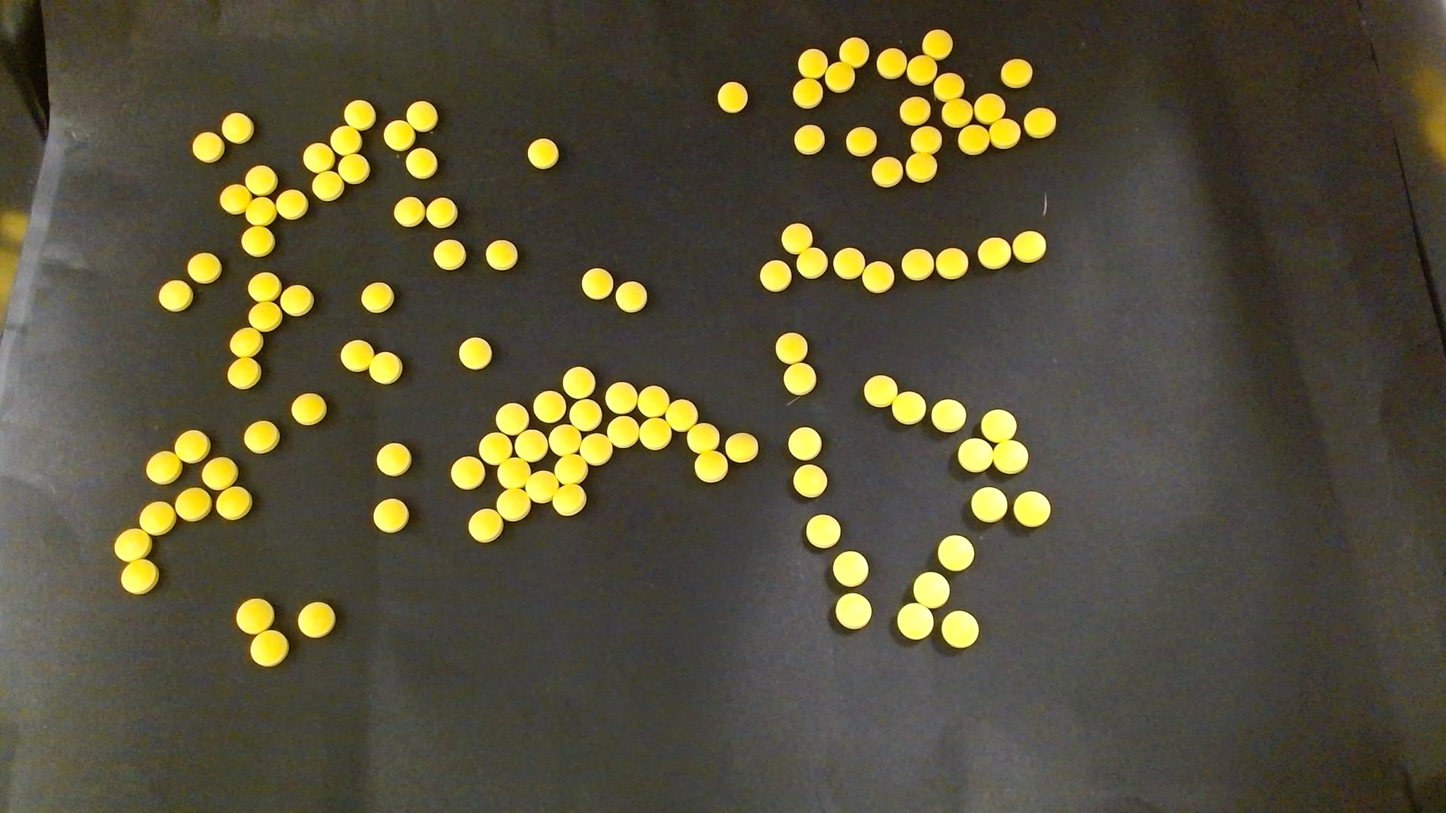Circle: (1011, 489, 1052, 531), (297, 601, 335, 638), (941, 611, 979, 648), (834, 593, 872, 630), (250, 630, 288, 667), (937, 534, 974, 571), (896, 603, 933, 640), (913, 571, 950, 608), (969, 485, 1007, 521), (120, 559, 158, 595), (236, 598, 273, 634), (832, 550, 868, 586), (805, 513, 841, 549), (992, 439, 1028, 474), (957, 438, 993, 473), (139, 501, 175, 536), (373, 499, 409, 533), (115, 528, 151, 562), (980, 407, 1016, 441), (145, 451, 181, 485), (175, 487, 211, 521), (793, 464, 828, 498), (157, 279, 193, 312), (216, 486, 252, 519), (243, 419, 279, 452), (932, 399, 966, 433), (892, 391, 926, 425), (175, 429, 209, 463), (450, 455, 484, 489), (201, 457, 236, 490), (468, 510, 502, 543), (376, 442, 410, 475), (227, 356, 261, 389), (496, 488, 530, 521), (825, 61, 858, 95), (291, 393, 326, 425), (694, 450, 727, 483), (459, 337, 492, 370), (783, 362, 816, 395), (863, 375, 897, 407), (1012, 230, 1045, 262), (187, 251, 220, 283), (789, 426, 822, 458), (241, 225, 274, 257), (901, 248, 934, 280), (527, 138, 560, 170), (978, 237, 1010, 269), (759, 260, 791, 292), (1023, 106, 1055, 138), (935, 247, 967, 279), (922, 29, 954, 61), (639, 417, 671, 449), (496, 402, 528, 434), (497, 456, 529, 488), (906, 55, 938, 87), (533, 391, 565, 423), (340, 339, 373, 370), (405, 148, 438, 179), (554, 453, 587, 484), (910, 126, 943, 157), (279, 285, 313, 315), (615, 281, 647, 312), (370, 352, 401, 384), (581, 267, 612, 299), (433, 239, 465, 270), (776, 332, 808, 363), (781, 223, 813, 254), (221, 112, 253, 143), (553, 483, 585, 514), (338, 153, 370, 184), (479, 433, 511, 464), (515, 430, 547, 461), (570, 399, 601, 431), (360, 282, 393, 312), (725, 433, 758, 463), (230, 327, 263, 357), (249, 300, 282, 330), (485, 239, 516, 270), (862, 261, 893, 292), (793, 123, 824, 154), (796, 247, 827, 278), (716, 81, 747, 112), (834, 247, 865, 278), (563, 366, 594, 397), (219, 184, 250, 215), (605, 382, 636, 413), (935, 72, 966, 103), (526, 472, 557, 503), (637, 385, 668, 416), (192, 132, 224, 162), (905, 152, 937, 182), (846, 126, 878, 156), (580, 434, 612, 464), (248, 271, 281, 300), (877, 47, 906, 80), (393, 196, 424, 226), (406, 100, 437, 130), (383, 120, 414, 150), (312, 170, 343, 200), (343, 99, 374, 129), (303, 142, 334, 172), (797, 48, 828, 78), (608, 416, 638, 447), (871, 156, 901, 186), (957, 124, 987, 154), (839, 37, 869, 67), (666, 400, 696, 430), (551, 424, 581, 454), (1001, 58, 1032, 87), (276, 190, 307, 219), (245, 165, 276, 194), (245, 196, 276, 225), (941, 97, 972, 126), (427, 197, 456, 227), (792, 78, 822, 107), (688, 424, 717, 454), (975, 93, 1005, 122), (900, 96, 931, 124), (330, 125, 359, 154), (990, 118, 1018, 147)
